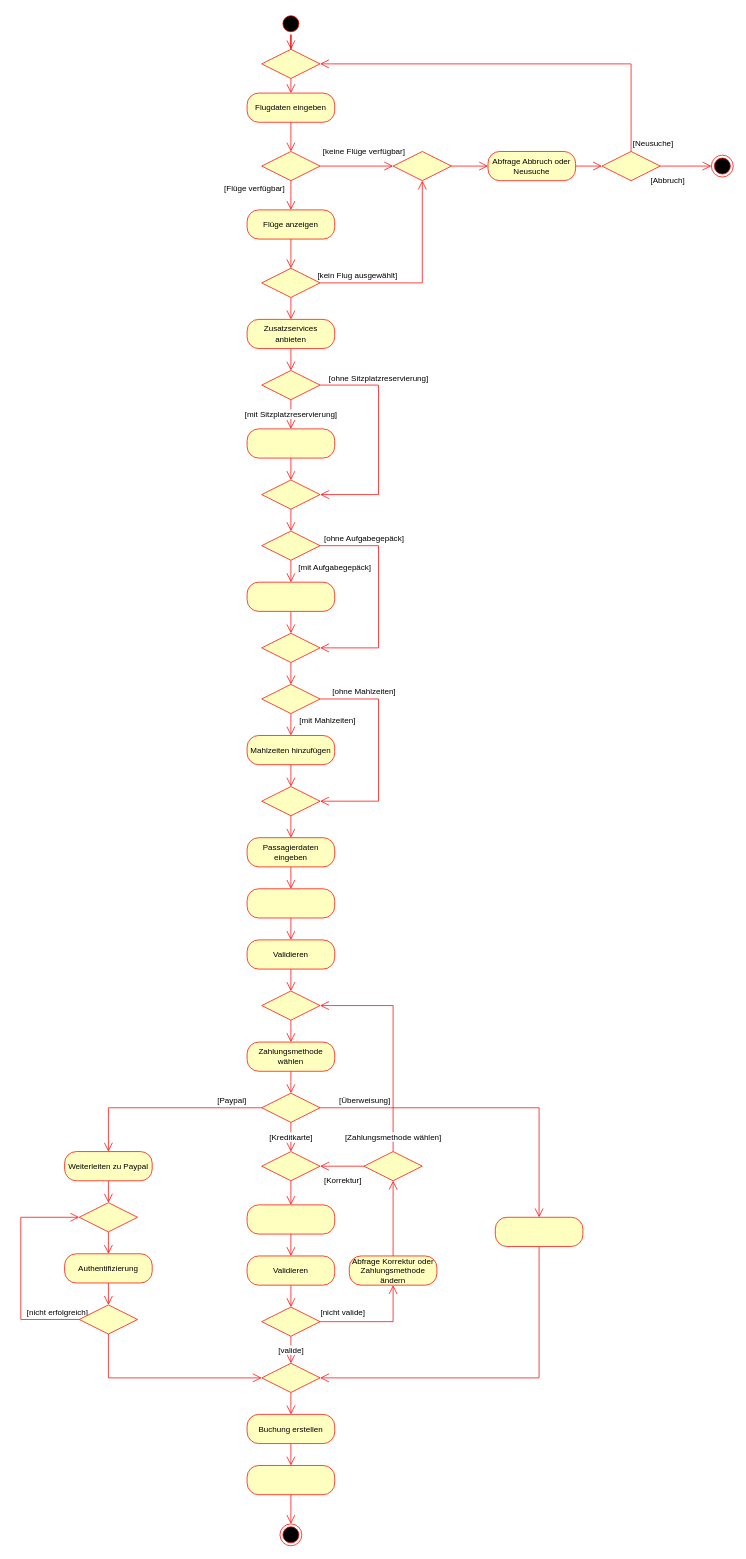
This 746x1559 diagram has some shape labels left out. The centre of each missing label's shape, as x and y in pixels:
"auf Vollständigkeit prüfen" belongs at point (290, 903).
"Aufgabegepäck hinzufügen" belongs at point (290, 596).
"Kartendaten eingeben" belongs at point (290, 1219).
"per Email bestätigen" belongs at point (290, 1480).
"Sitzplatzreservierung" belongs at point (290, 443).
"Zahlungsanweisungen anzeigen" belongs at point (539, 1231).
